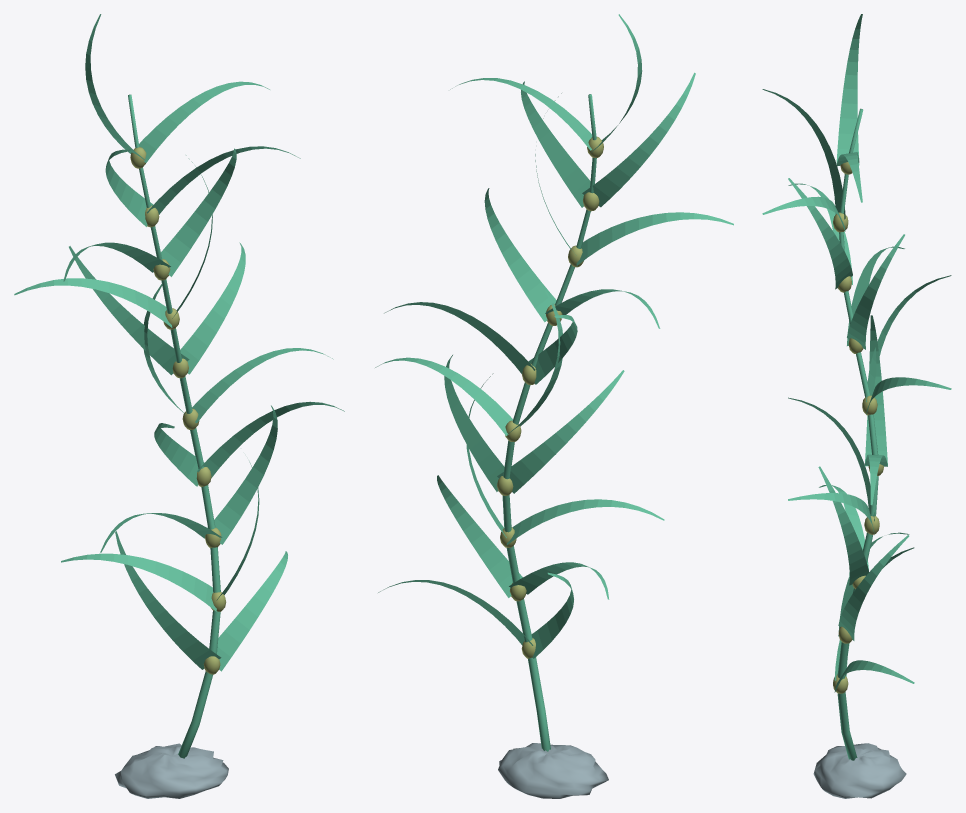
The model's file is underwater-reef-worlds-giant-kelp-b66c1422__7036.glb.
3 views of the same model, side by side, from view 1: azimuth 30°, elevation 25°; view 2: azimuth 150°, elevation 25°; view 3: azimuth 270°, elevation 25° (orthographic). The views are drawn at different scales.
Visible parts, largest first — view 1: giant-kelp; view 2: giant-kelp; view 3: giant-kelp.
Boxes of the visible parts, x1,y1,x2,y2 form: giant-kelp: [14, 14, 344, 798]; giant-kelp: [375, 14, 733, 798]; giant-kelp: [762, 14, 951, 798].
Bounding box in the file's own units: 1.9 × 4.52 × 1.06.
